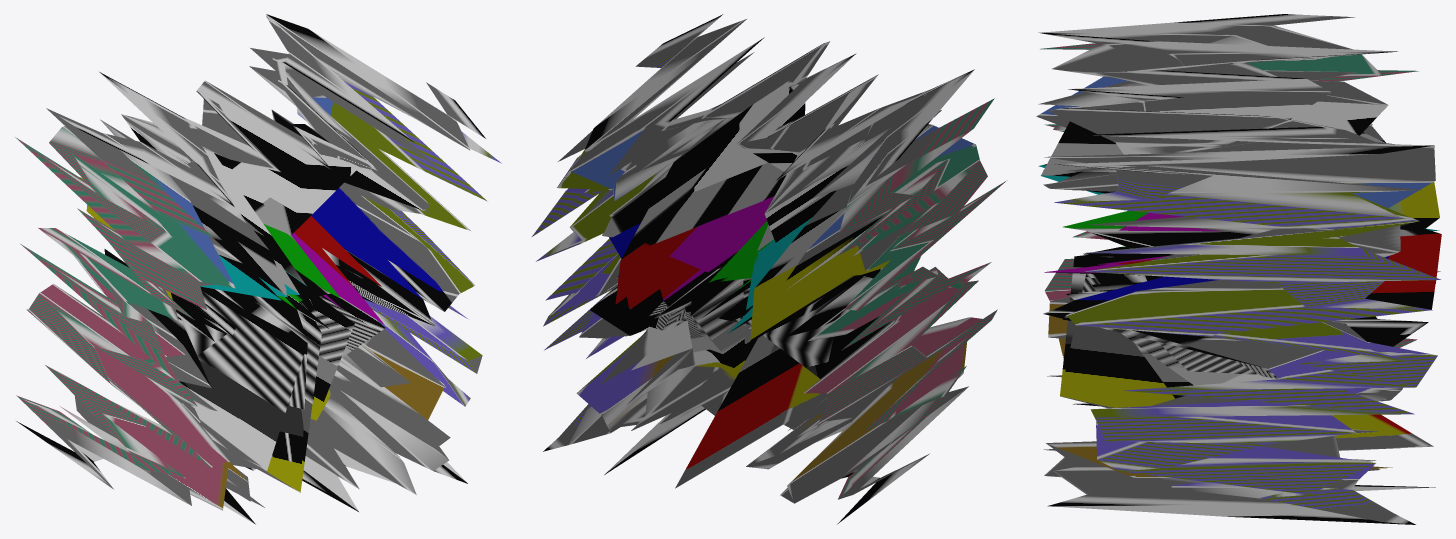
3 renders of one model, left to right at view 1: azimuth 30°, elevation 25°; view 2: azimuth 150°, elevation 25°; view 3: azimuth 270°, elevation 25°, orthographic. The views are drawn at different scales.
Visible parts, largest first — view 1: mesh; view 2: mesh; view 3: mesh.
Boxes of the visible parts, box(x1,y1,x2,y2) form: mesh: box(15, 14, 501, 524); mesh: box(532, 14, 1007, 524); mesh: box(1036, 14, 1441, 524).
Bounding box in the file's own units: 0.9232 × 0.9566 × 0.9985.
Materials: 1 (1 with a texture image).
